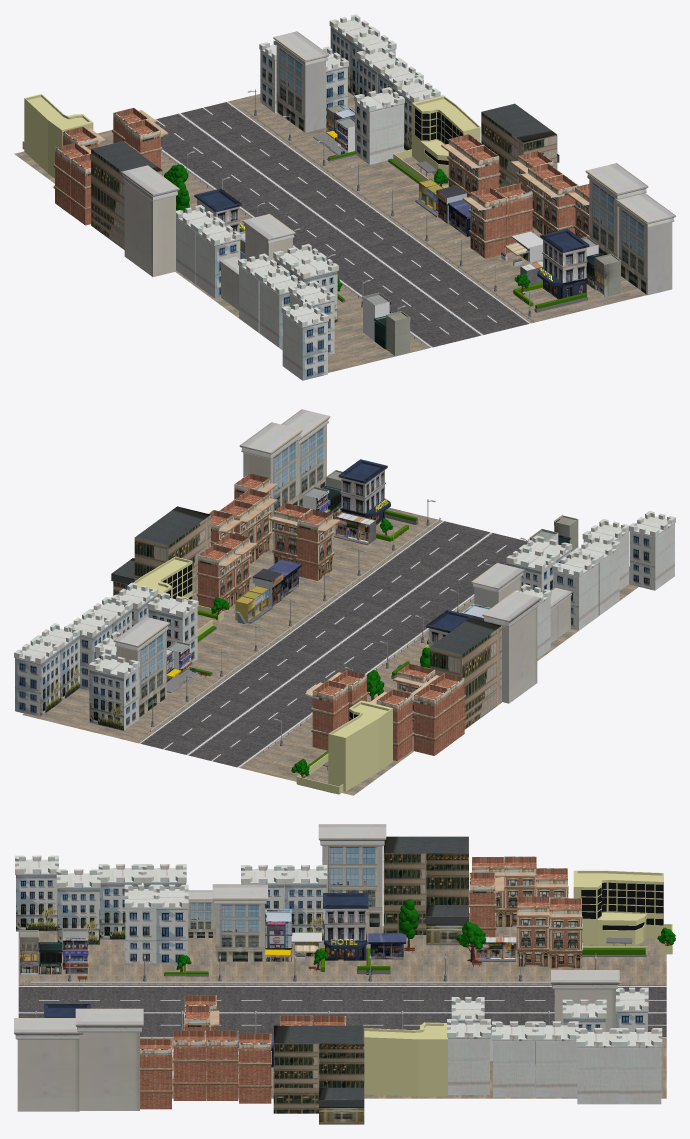
The model's file is City Scene.fbx.
3 renders of one model, top to bottom at view 1: azimuth 30°, elevation 25°; view 2: azimuth 150°, elevation 25°; view 3: azimuth 270°, elevation 25°, orthographic. The views are drawn at different scales.
Parts seen in each view (by area): view 1: road.002, mesh_office.005, mesh_office.004, mesh_office.006, mesh_office_01.001, hotel.002, mesh_office_01.003, mesh_apartment.001, mesh_apartment.009, mesh_office.003, hotel.003, mash_Hotel (+40 smaller); view 2: road.002, hotel.003, mesh_office_01.003, mesh_office_01.001, mesh_office.005, mesh_office.003, mesh_apartment.014, mesh_office.006, mesh_apartment.009, mesh_apartment.016, mesh_apartment.006, mash_bulding.011 (+37 smaller); view 3: road.002, mesh_office_01.001, mesh_office_01.003, mesh_office.003, hotel.003, mesh_office.004, hotel.002, mesh_office.005, mesh_office.001, mesh_apartment.016, mesh_apartment.015, mesh_apartment.012 (+41 smaller).
Boxes of the visible parts, x1=… form: road.002: x1=14, y1=92, x2=646, y2=372; mesh_office.005: x1=121, y1=165, x2=179, y2=276; mesh_office.004: x1=615, y1=193, x2=675, y2=295; mesh_office.006: x1=273, y1=31, x2=329, y2=132; mesh_office_01.001: x1=481, y1=103, x2=559, y2=187; hotel.002: x1=393, y1=95, x2=480, y2=188; mesh_office_01.003: x1=91, y1=141, x2=162, y2=249; mesh_apartment.001: x1=354, y1=87, x2=404, y2=164; mesh_apartment.009: x1=281, y1=301, x2=328, y2=380; mesh_office.003: x1=585, y1=163, x2=648, y2=258; hotel.003: x1=22, y1=94, x2=93, y2=178; mash_Hotel: x1=540, y1=229, x2=589, y2=299; road.002: x1=22, y1=507, x2=638, y2=795; hotel.003: x1=296, y1=700, x2=392, y2=794; mesh_office_01.003: x1=430, y1=618, x2=501, y2=729; mesh_office_01.001: x1=111, y1=506, x2=210, y2=595; mesh_office.005: x1=482, y1=591, x2=540, y2=703; mesh_office.003: x1=239, y1=422, x2=302, y2=531; mesh_apartment.014: x1=88, y1=653, x2=139, y2=730; mesh_office.006: x1=113, y1=617, x2=169, y2=717; mesh_apartment.009: x1=629, y1=511, x2=675, y2=590; mesh_apartment.016: x1=14, y1=637, x2=60, y2=716; mesh_apartment.006: x1=552, y1=551, x2=599, y2=630; mash_bulding.011: x1=411, y1=684, x2=450, y2=755; road.002: x1=18, y1=926, x2=666, y2=1098; mesh_office_01.001: x1=273, y1=1025, x2=364, y2=1124; mesh_office_01.003: x1=383, y1=836, x2=468, y2=945; mesh_office.003: x1=75, y1=1008, x2=143, y2=1110; hotel.003: x1=573, y1=870, x2=672, y2=954; mesh_office.004: x1=14, y1=1018, x2=83, y2=1111; hotel.002: x1=364, y1=1022, x2=447, y2=1096; mesh_office.005: x1=318, y1=824, x2=386, y2=926; mesh_office.001: x1=212, y1=884, x2=267, y2=961; mesh_apartment.016: x1=618, y1=1028, x2=662, y2=1104; mesh_apartment.015: x1=576, y1=1028, x2=620, y2=1104; mesh_apartment.012: x1=534, y1=1021, x2=578, y2=1097.
Size of the model in its own units: 6196 by 1259 by 8172.
Materials: 46 (28 with a texture image).
